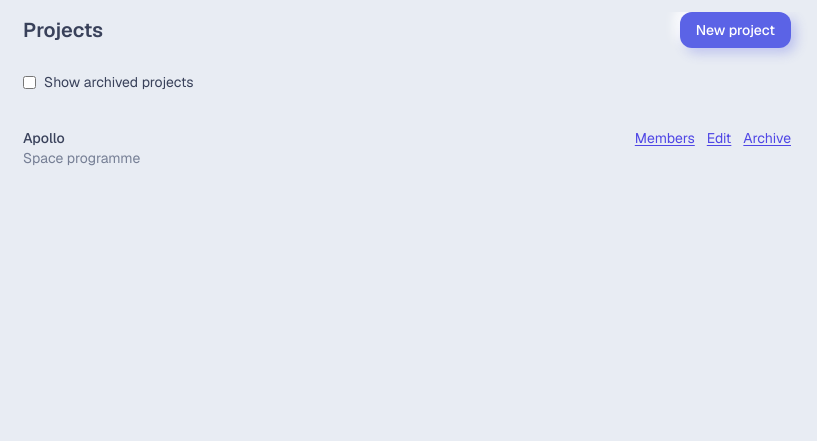
it: ProjectsPage › creates a project and shows it in the list
Expected: the text "Apollo" is shown, [23,129,65,147]
Click the button "New project": (735, 30) [680,12,791,48]
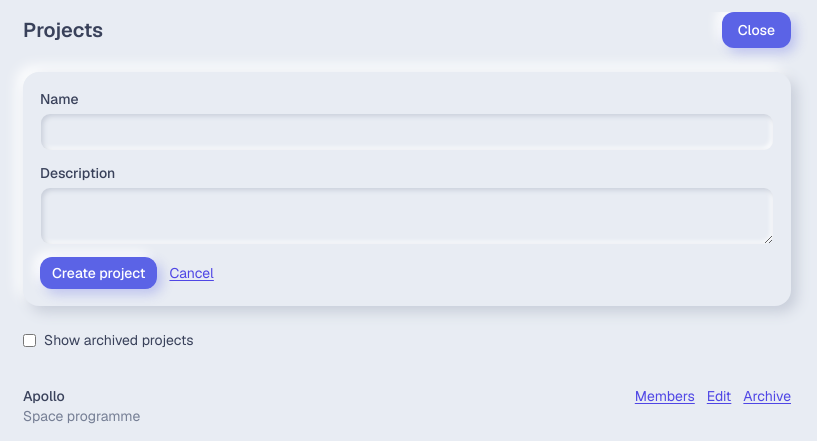
In the field labelled "Name": (407, 132) [40,113,774,151], type "Helios"
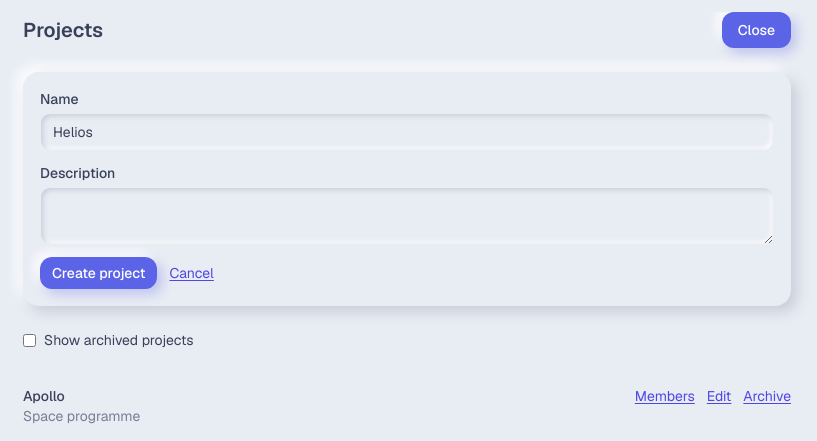
Click the button "Create project": (99, 273) [40,257,157,289]
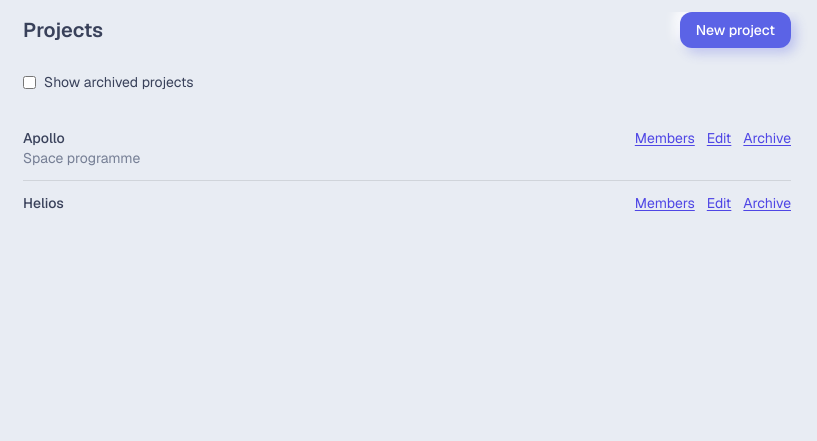
Expected: the text "Helios" is shown, [23,193,64,213]
